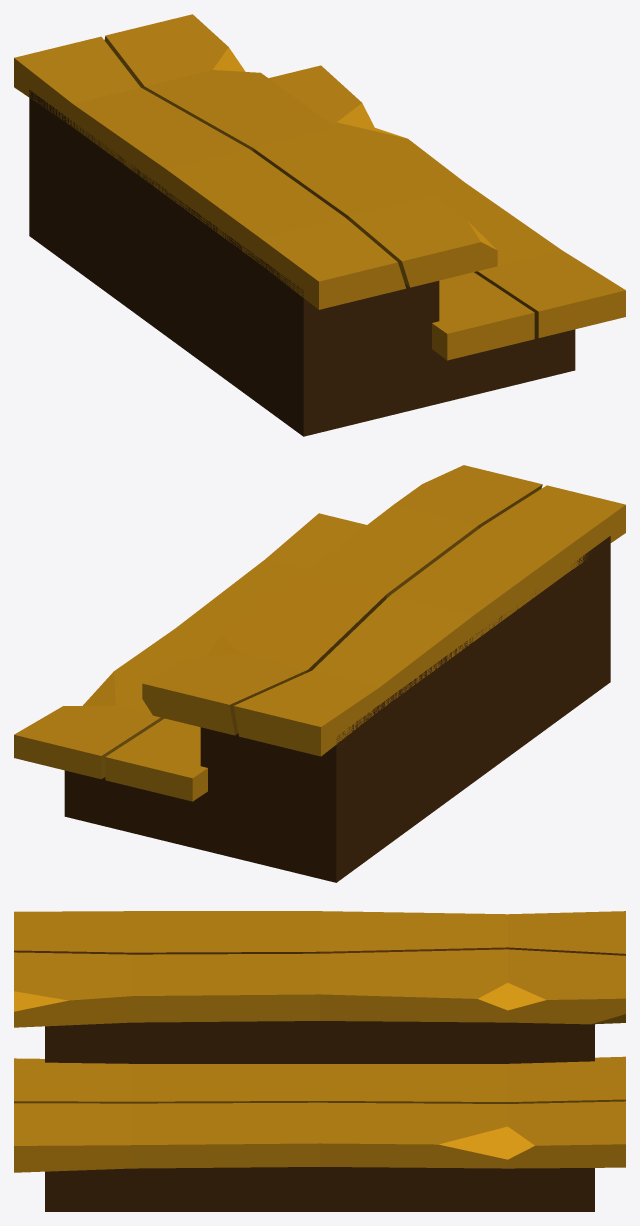
Rendered from Steps.fbx.
3 views of the same model, one above another, from view 1: azimuth 30°, elevation 25°; view 2: azimuth 150°, elevation 25°; view 3: azimuth 270°, elevation 25° (orthographic).
Visible parts, largest first — view 1: Steps; view 2: Steps; view 3: Steps.
Part boxes in pixels (box(x1,y1,x2,y2)): Steps: box(14, 14, 625, 436); Steps: box(14, 465, 625, 882); Steps: box(14, 911, 625, 1211).
Bounding box in the file's own units: 0.5881 × 0.3056 × 1.01.
